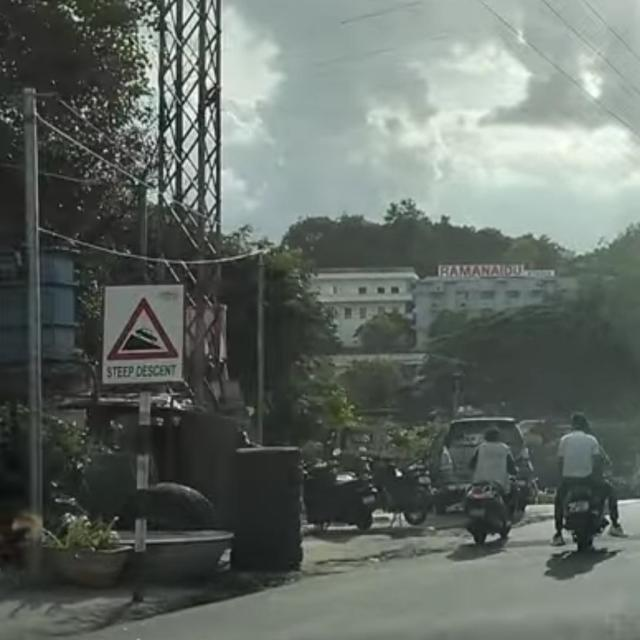steep descent: (107, 296, 180, 361)
